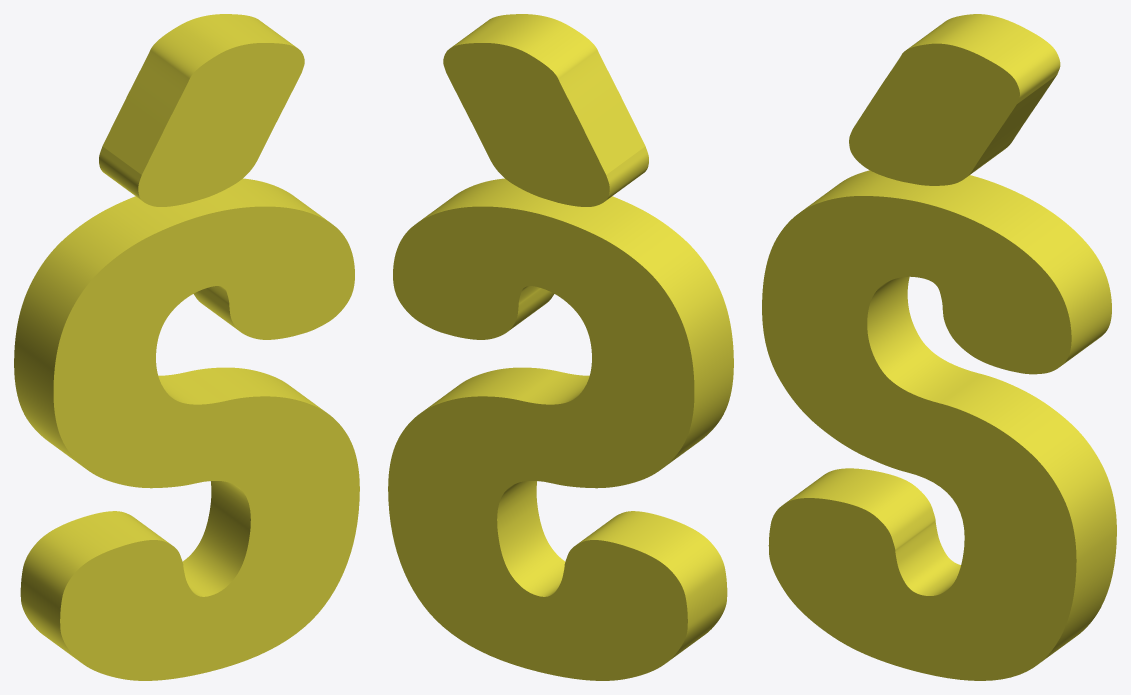
3 renders of one model, left to right at view 1: azimuth 30°, elevation 25°; view 2: azimuth 150°, elevation 25°; view 3: azimuth 330°, elevation 25°, orthographic. The views are drawn at different scales.
Visible parts, largest first — view 1: Text.002; view 2: Text.002; view 3: Text.002.
Part boxes in pixels (x1=…): Text.002: x1=14, y1=14, x2=359, y2=680; Text.002: x1=388, y1=14, x2=733, y2=680; Text.002: x1=762, y1=14, x2=1116, y2=680.
Bounding box in the file's own units: 2.15 × 4.15 × 0.4791.
